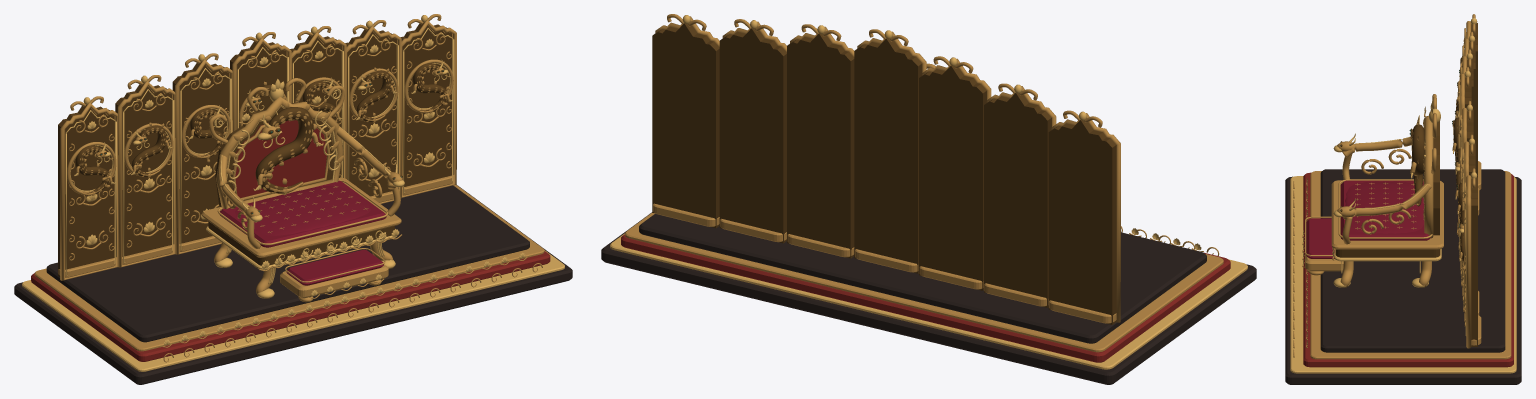
The model's file is imperial-throne.glb.
3 views of the same model, side by side, from view 1: azimuth 30°, elevation 25°; view 2: azimuth 150°, elevation 25°; view 3: azimuth 270°, elevation 25° (orthographic). The views are drawn at different scales.
Parts seen in each view (by area): view 1: SM_Throne_RecessedBronze, SM_Throne_AgedGold, SM_Throne_EbonyBase, SM_Throne_BurnishedEdges, SM_Throne_VermilionLacquer, SM_Throne_ImperialBrocade, SM_Throne_SilkGold; view 2: SM_Throne_RecessedBronze, SM_Throne_EbonyBase, SM_Throne_AgedGold, SM_Throne_VermilionLacquer, SM_Throne_BurnishedEdges; view 3: SM_Throne_EbonyBase, SM_Throne_AgedGold, SM_Throne_BurnishedEdges, SM_Throne_RecessedBronze, SM_Throne_ImperialBrocade, SM_Throne_VermilionLacquer, SM_Throne_SilkGold.
Part boxes in pixels (bbox=[...]): SM_Throne_RecessedBronze: bbox=[58, 22, 451, 276]; SM_Throne_AgedGold: bbox=[34, 14, 544, 362]; SM_Throne_EbonyBase: bbox=[14, 184, 572, 384]; SM_Throne_BurnishedEdges: bbox=[22, 15, 564, 371]; SM_Throne_VermilionLacquer: bbox=[31, 120, 550, 361]; SM_Throne_ImperialBrocade: bbox=[220, 180, 386, 285]; SM_Throne_SilkGold: bbox=[217, 179, 388, 282]; SM_Throne_RecessedBronze: bbox=[652, 23, 1116, 324]; SM_Throne_EbonyBase: bbox=[601, 212, 1256, 384]; SM_Throne_AgedGold: bbox=[625, 14, 1223, 352]; SM_Throne_VermilionLacquer: bbox=[621, 234, 1230, 362]; SM_Throne_BurnishedEdges: bbox=[610, 15, 1247, 369]; SM_Throne_EbonyBase: bbox=[1285, 169, 1521, 384]; SM_Throne_AgedGold: bbox=[1293, 14, 1511, 359]; SM_Throne_BurnishedEdges: bbox=[1290, 18, 1516, 373]; SM_Throne_RecessedBronze: bbox=[1335, 23, 1477, 346]; SM_Throne_ImperialBrocade: bbox=[1306, 180, 1430, 258]; SM_Throne_VermilionLacquer: bbox=[1303, 172, 1513, 367]; SM_Throne_SilkGold: bbox=[1305, 179, 1432, 256].
Bounding box in the file's own units: 6.4 × 3.21 × 3.2.
